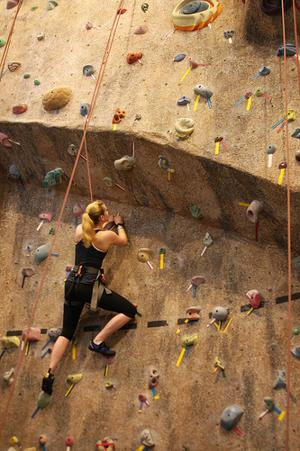person: (41, 200, 137, 397)
